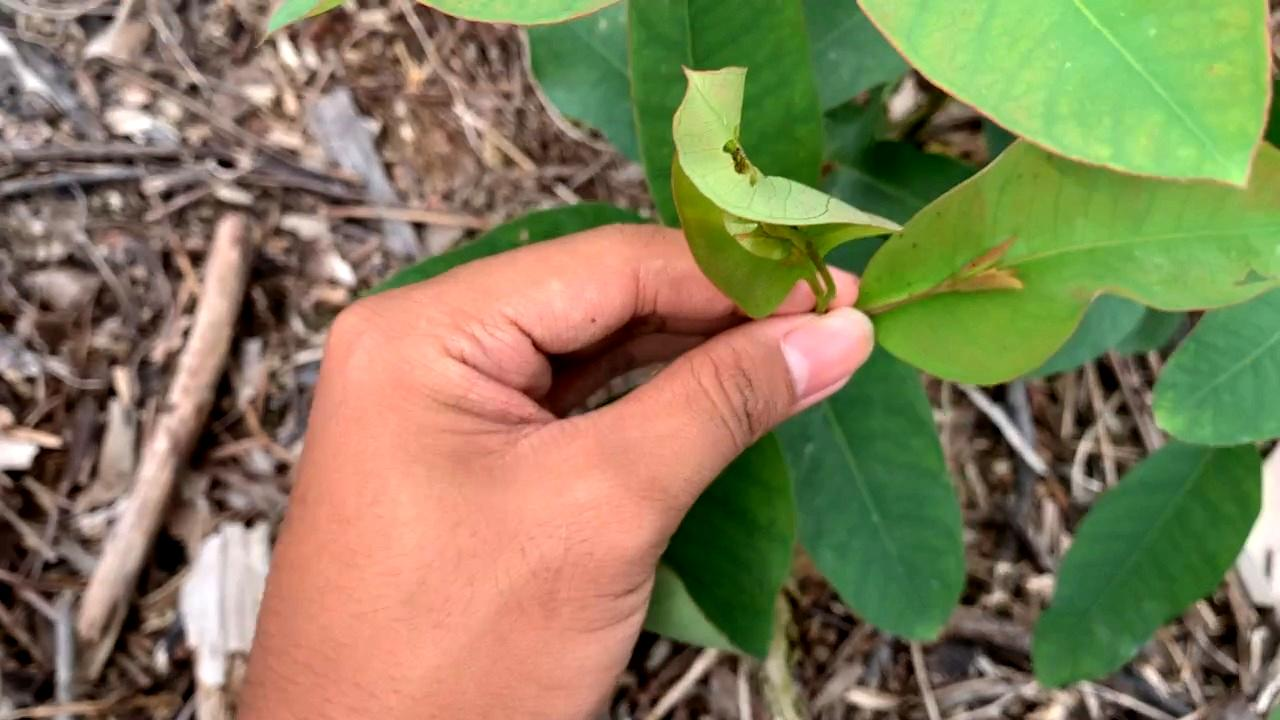Leaf Roller - Leaf: (648, 66, 879, 320)
